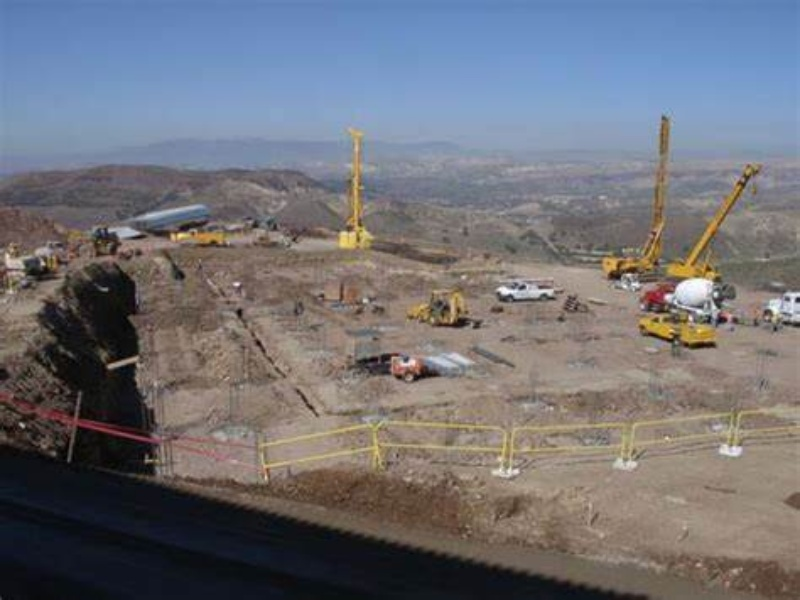crane: (596, 112, 677, 283), (667, 159, 765, 293), (333, 124, 373, 254)
vehicle: (639, 277, 724, 324), (636, 310, 720, 351), (493, 276, 557, 305), (760, 293, 800, 329), (169, 229, 229, 250)
